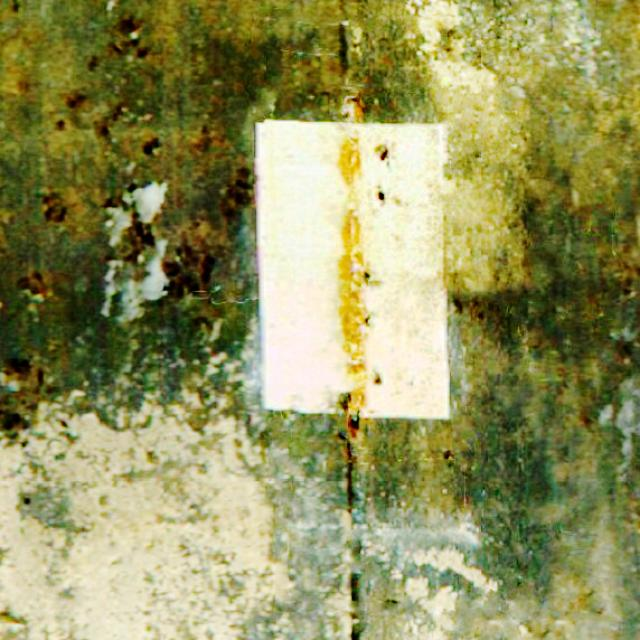Corrosion: (337, 207, 371, 443), (336, 97, 362, 185)
